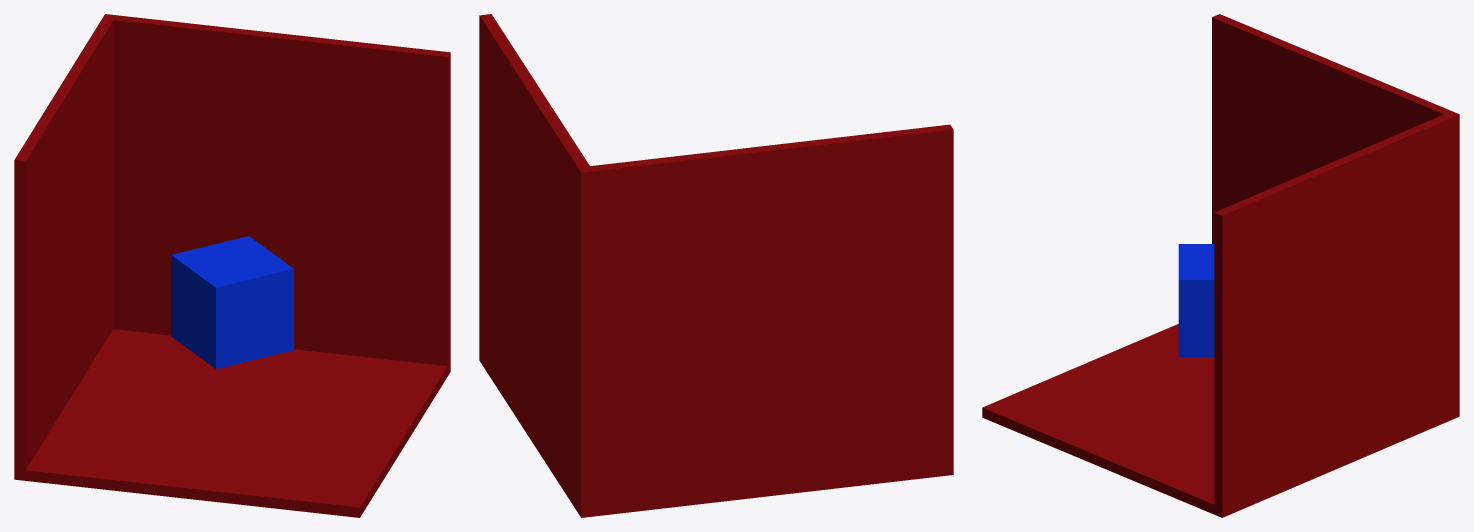
3 views of the same model, side by side, from view 1: azimuth 30°, elevation 25°; view 2: azimuth 150°, elevation 25°; view 3: azimuth 270°, elevation 25° (orthographic). The views are drawn at different scales.
Parts seen in each view (by area): view 1: Plane, Cube; view 2: Plane; view 3: Plane, Cube.
Boxes of the visible parts, x1,y1,x2,y2 form: Plane: (14,14,450,517); Cube: (171,236,293,368); Plane: (479,14,953,517); Plane: (982,14,1459,517); Cube: (1178,244,1214,356).
Size of the model in its own units: 8.49 by 5.92 by 8.49.
